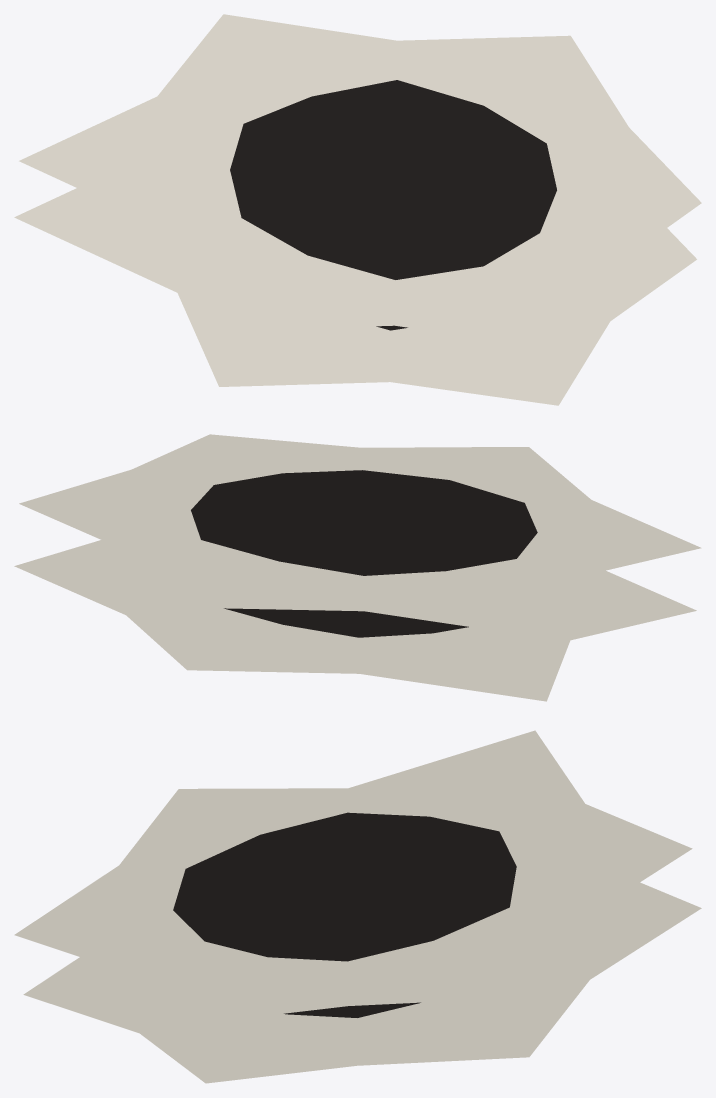
The model's file is hole_stand_11.obj.
3 renders of one model, top to bottom at view 1: azimuth 30°, elevation 25°; view 2: azimuth 150°, elevation 25°; view 3: azimuth 270°, elevation 25°, orthographic.
Bounding box in the file's own units: 0.051 × 0.0131 × 0.0559.
